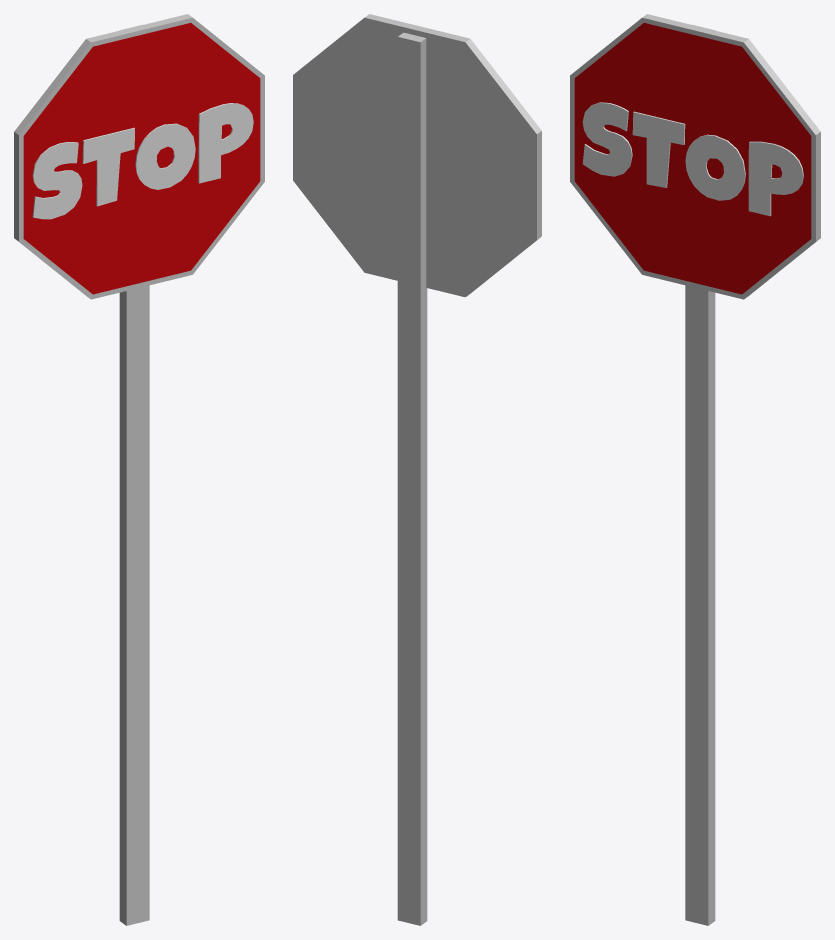
The model's file is StopSign.fbx.
3 renders of one model, left to right at view 1: azimuth 30°, elevation 25°; view 2: azimuth 150°, elevation 25°; view 3: azimuth 330°, elevation 25°, orthographic.
Parts seen in each view (by area): view 1: StopSign; view 2: StopSign; view 3: StopSign.
Part boxes in pixels (x1=…): StopSign: x1=14, y1=14, x2=264, y2=925; StopSign: x1=293, y1=14, x2=541, y2=925; StopSign: x1=570, y1=14, x2=820, y2=925.
Size of the model in its own units: 0.5742 by 2 by 0.0474.
